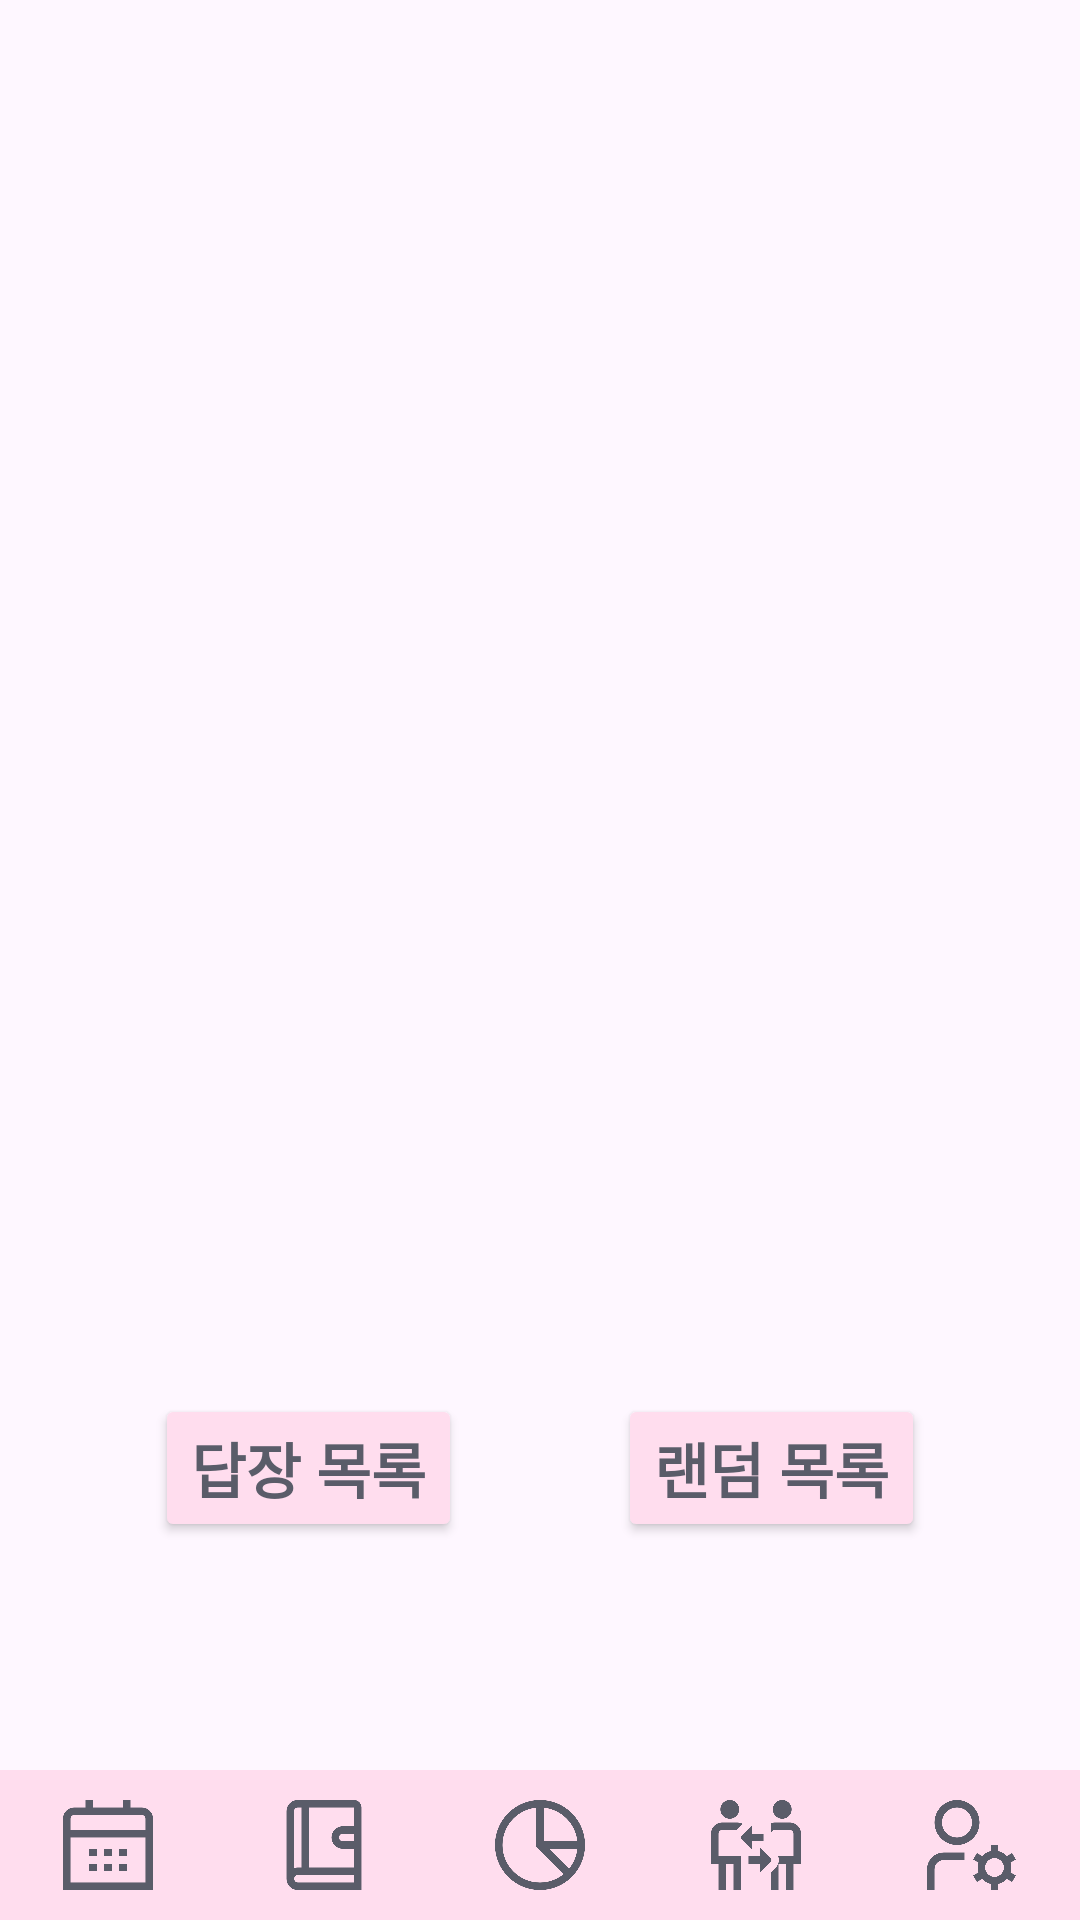

Named icons in this screenshot (1080w x 1920h) and their centers, (x,y):
admin: (971,1845)
chart: (540,1845)
diary: (324,1845)
iconcalendar: (108,1845)
social: (756,1845)
